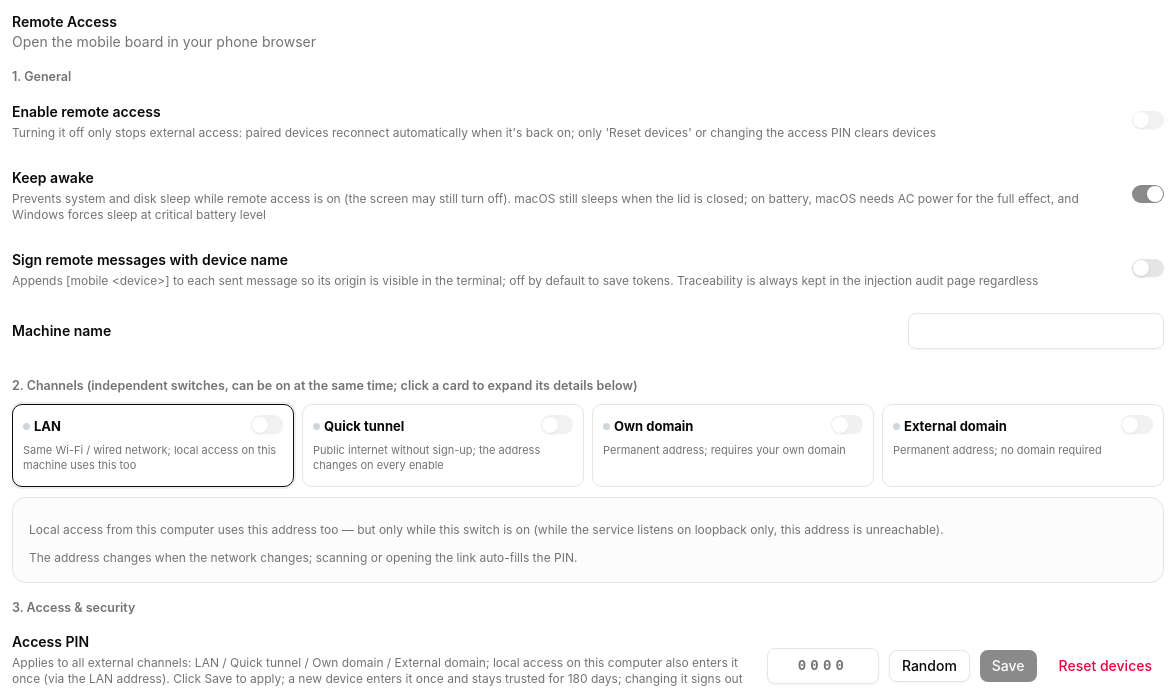
Test case: RemoteSection 展示态取 running、开关取 enabled（评审 C-I1） › 临时隧道通道开关关（总开关开着）：未开启徽标 + 该通道自己的成因文案
This screenshot has width=1176, height=688.
Step 1. Click the button that starts with "Quick tunnel" → (443, 445), box [302,404,584,486]
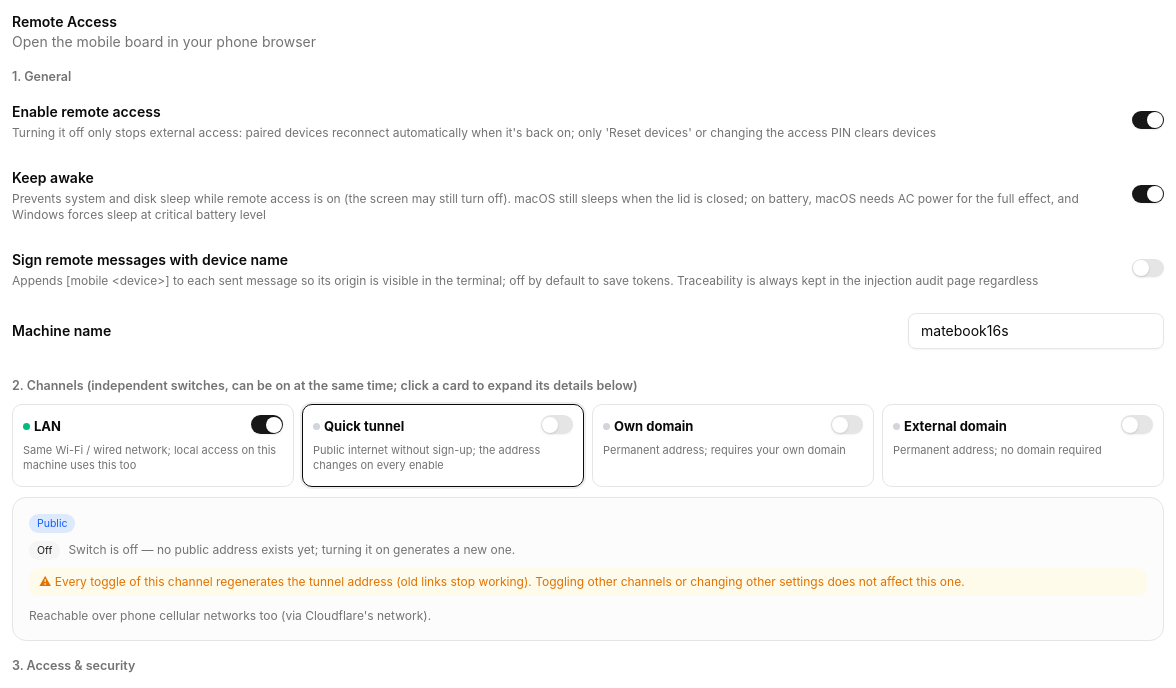
Now the text "Off" is shown, box [29,540,60,560]
Now the text "no public address exists yet" is shown, box [68,542,515,557]
